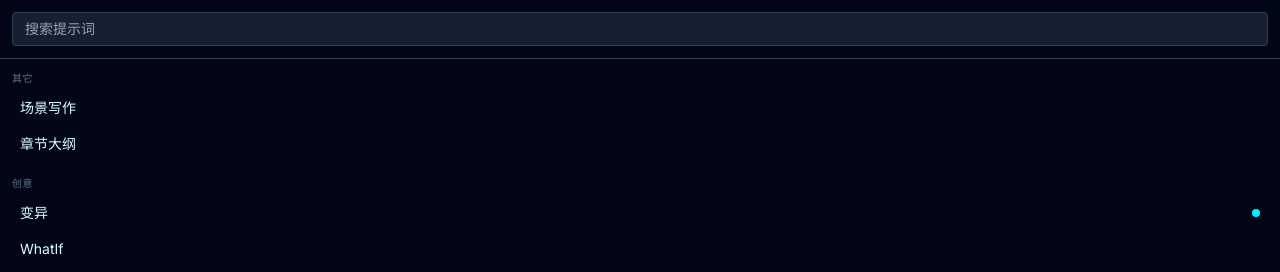
Test case: PromptListPanel › filters by search query
Type "outline" into the search field with placeholder "搜索提示词" at (640, 29), box [12,12,1268,46]
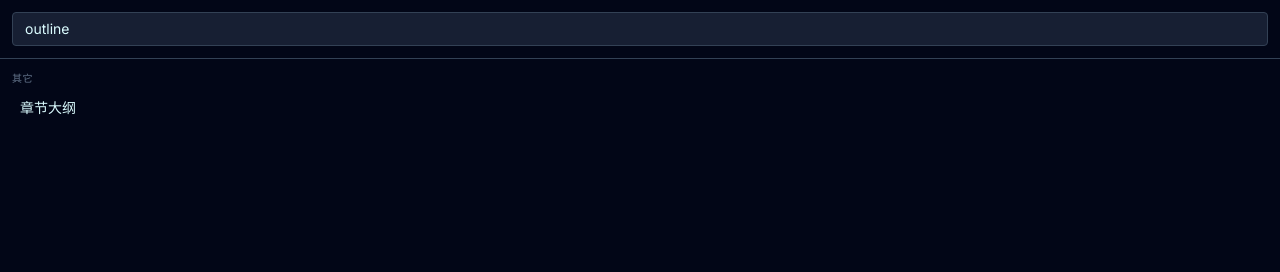
Expected: the text "章节大纲" is shown, [20,98,76,118]
Now the button "场景写作" is gone
